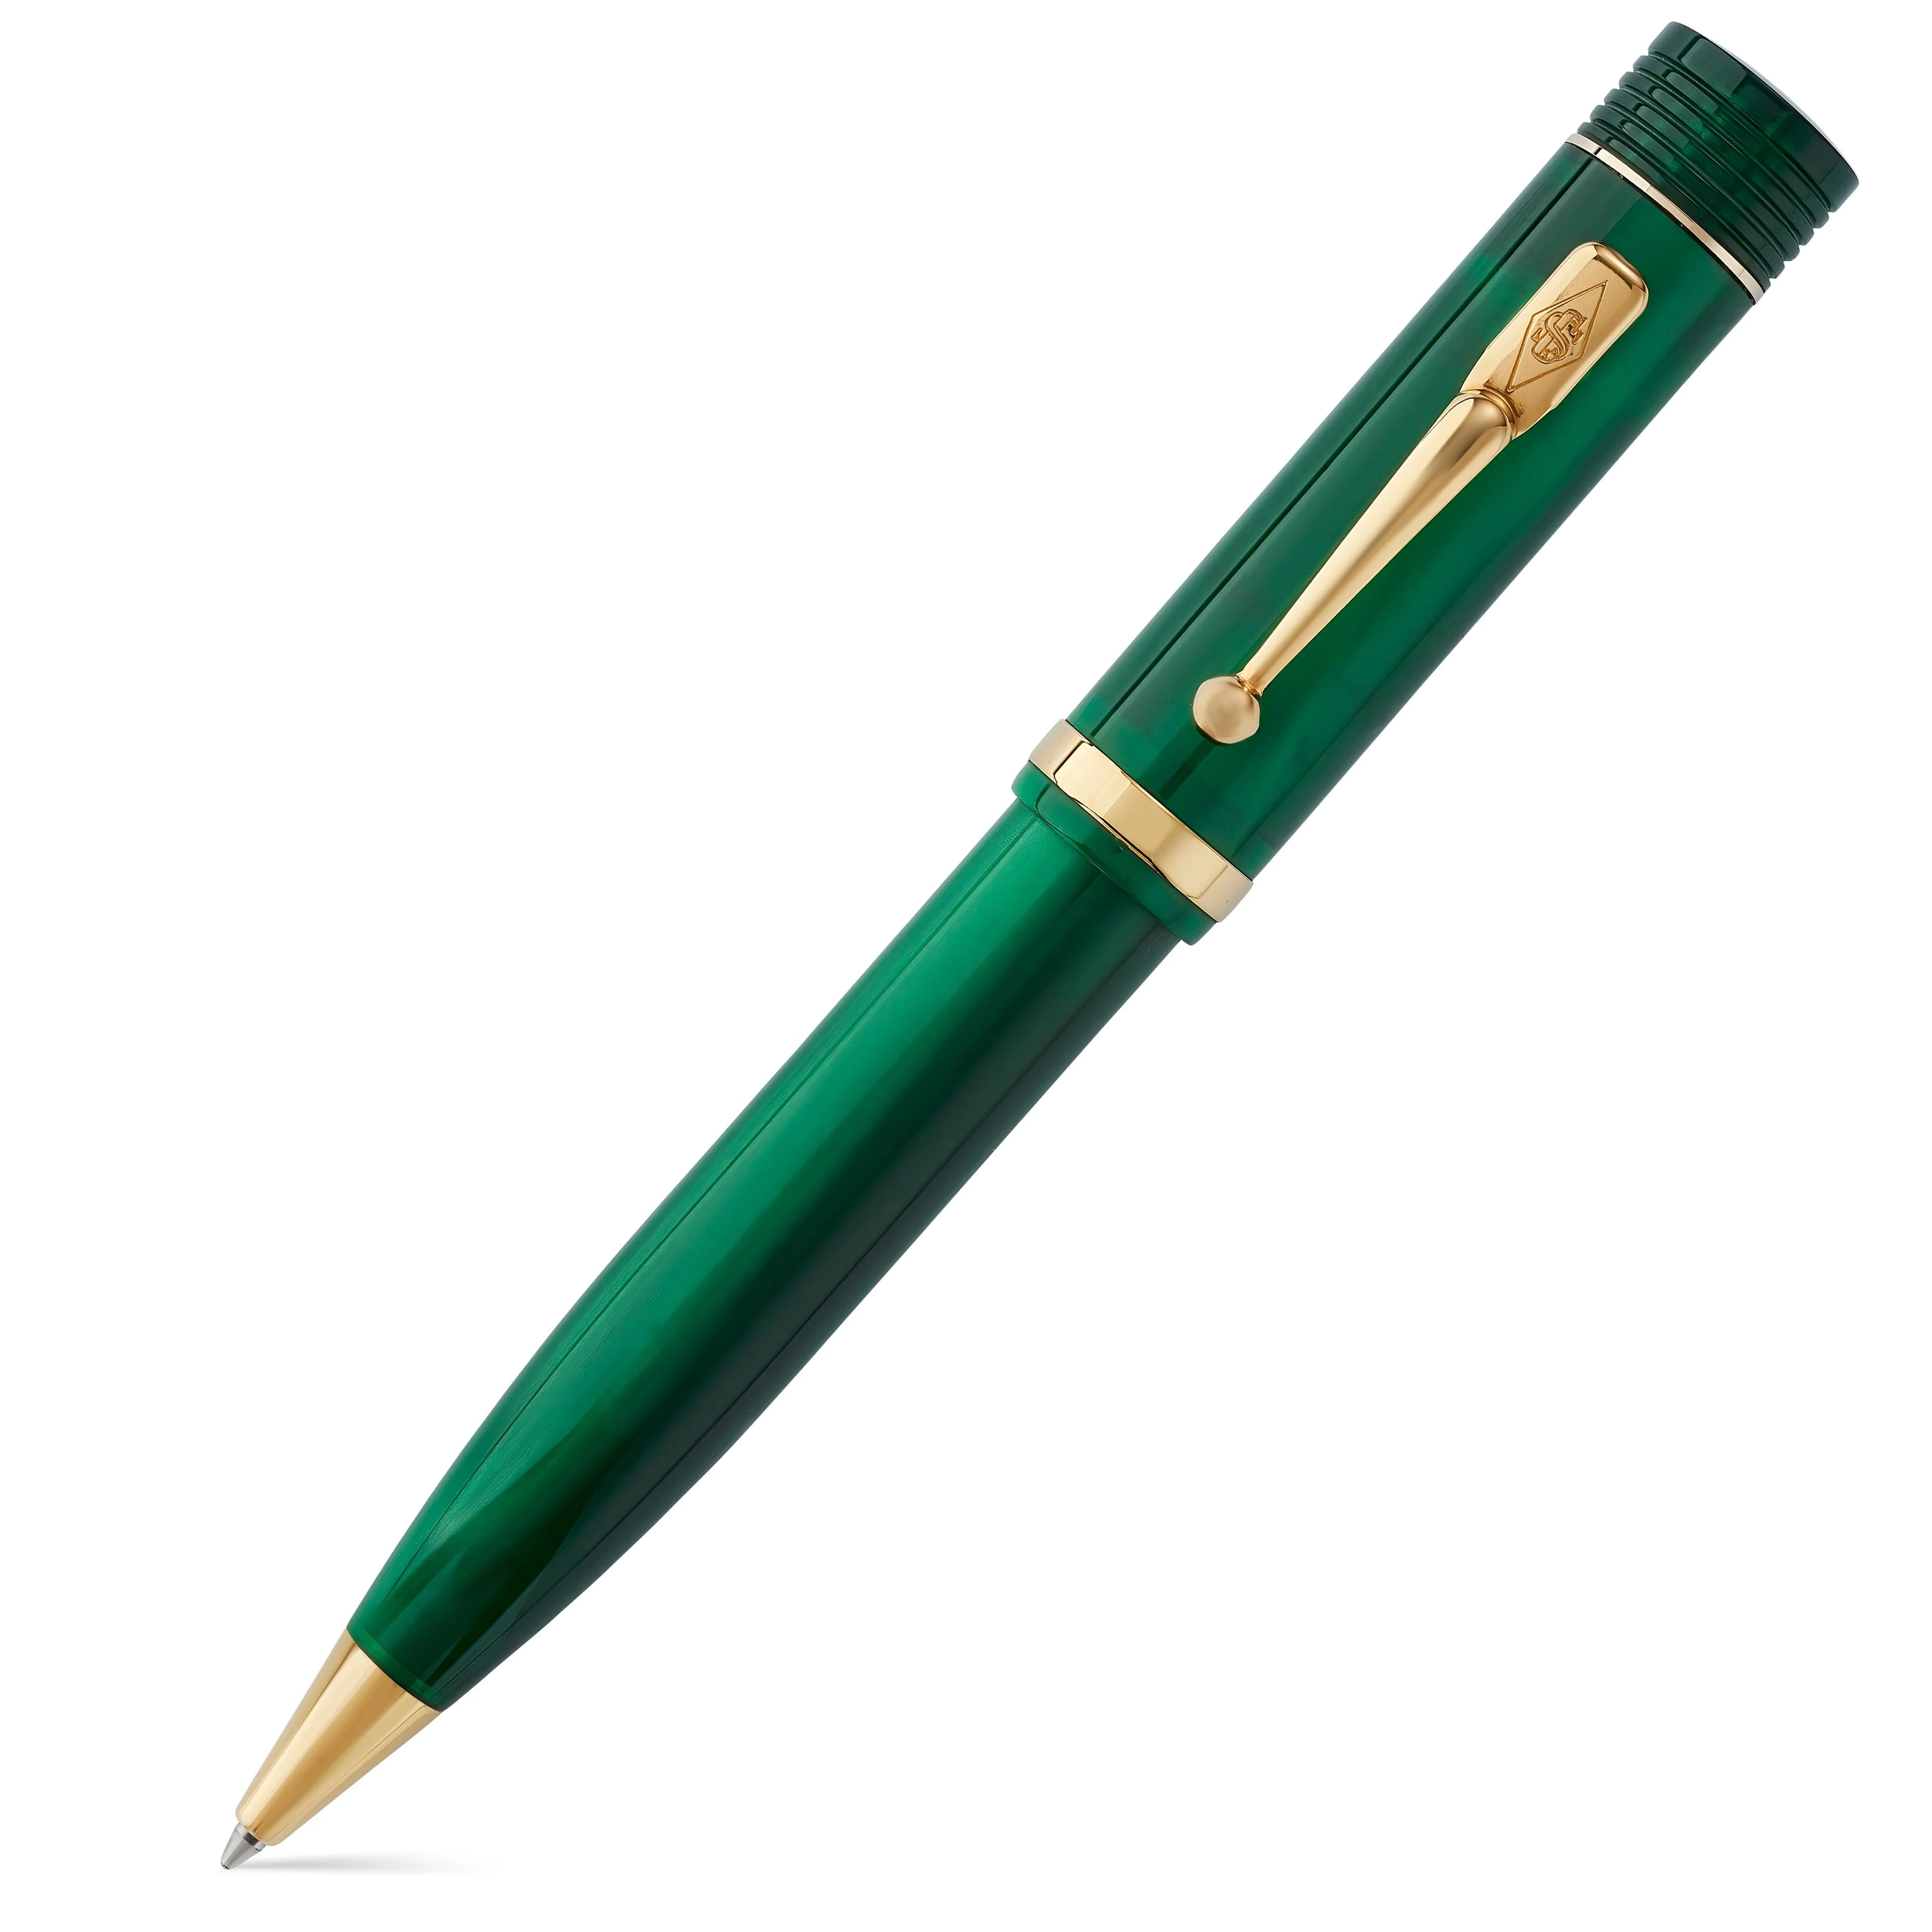pen: (80, 5, 1886, 1891)
